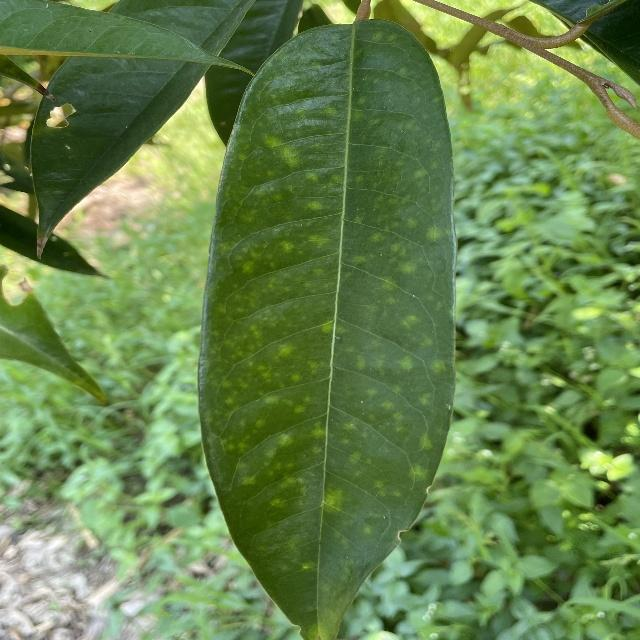Leaf Spot: (197, 13, 466, 640)
